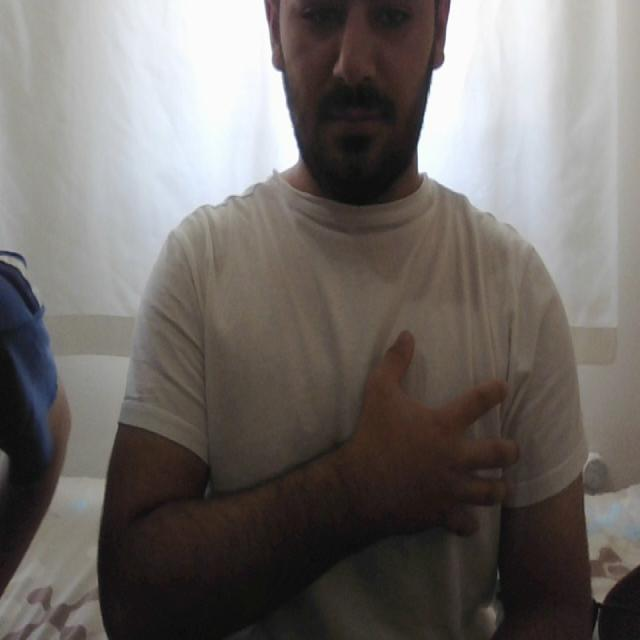Anne: (202, 309, 541, 596)
